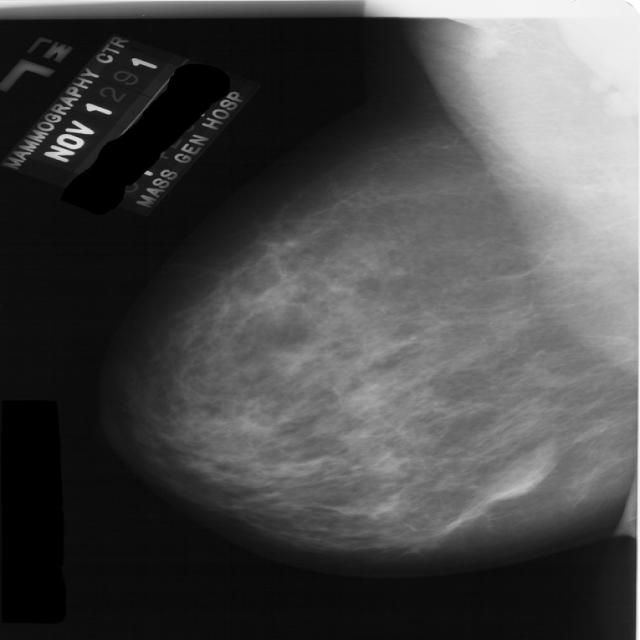tumour: (476, 448, 557, 500)
